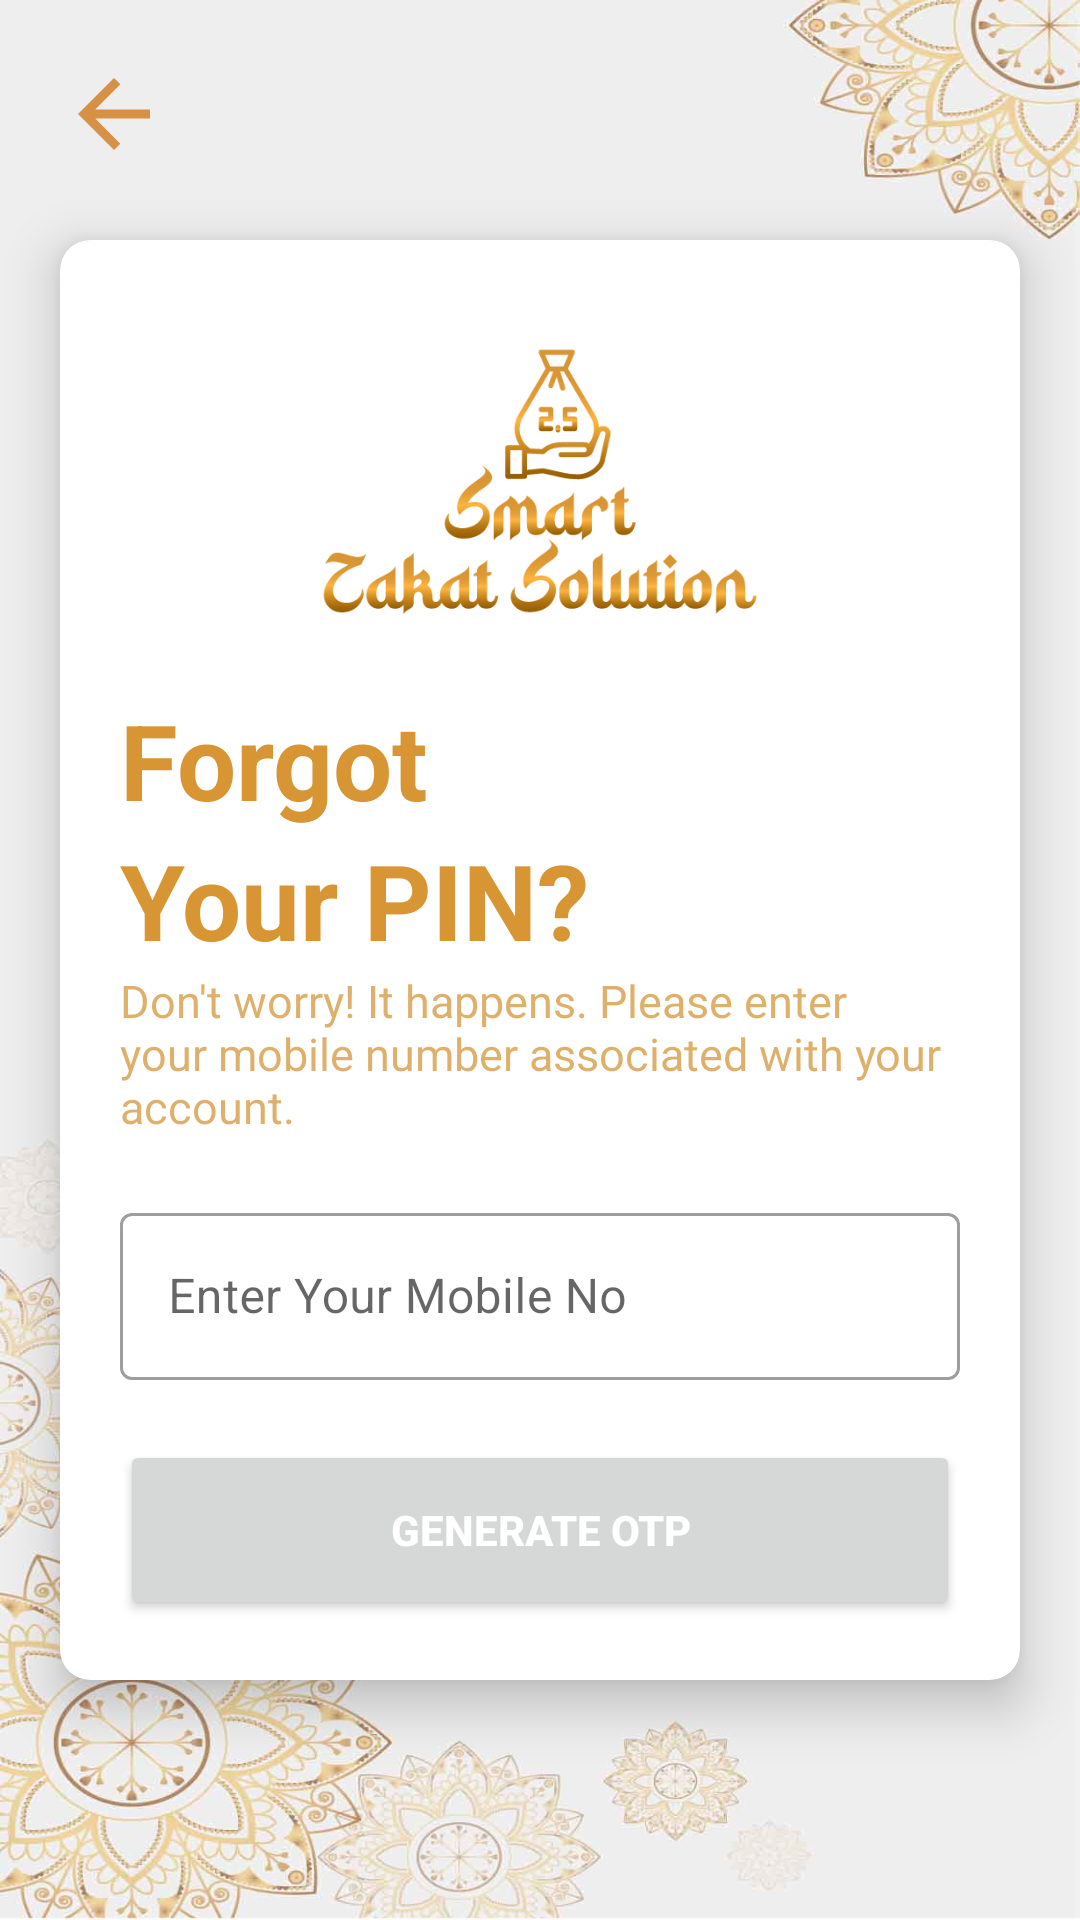

Icons on this 1080 x 1920 Android screen, each with the point to tap as (x=x, y=y):
arrow back: (x=114, y=114)
